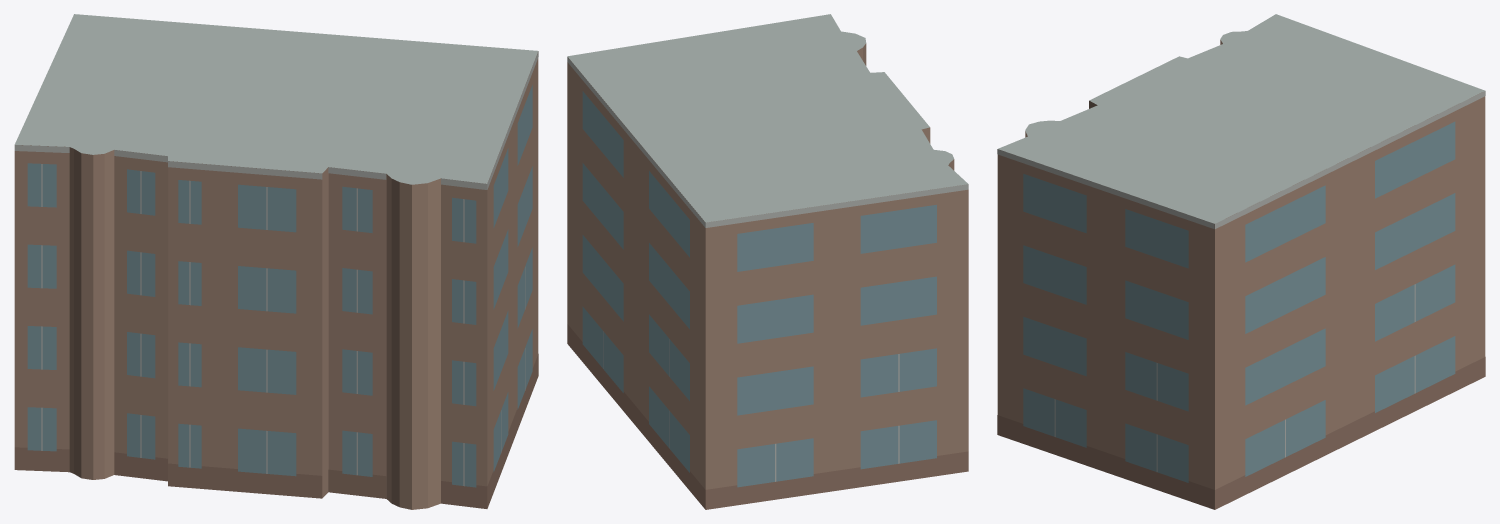
File: survey-upis-32705866.glb
The picture shows the model from 3 angles, left to right: view 1: azimuth 30°, elevation 25°; view 2: azimuth 150°, elevation 25°; view 3: azimuth 270°, elevation 25°; orthographic projection. The views are drawn at different scales.
Visible parts, largest first — view 1: survey-upis-32705866.tmp; view 2: survey-upis-32705866.tmp; view 3: survey-upis-32705866.tmp.
Boxes of the visible parts, x1,y1,x2,y2 form: survey-upis-32705866.tmp: (14, 14, 538, 509); survey-upis-32705866.tmp: (567, 14, 968, 509); survey-upis-32705866.tmp: (997, 14, 1485, 509).
Bounding box in the file's own units: 20.16 × 12.8 × 19.8.
